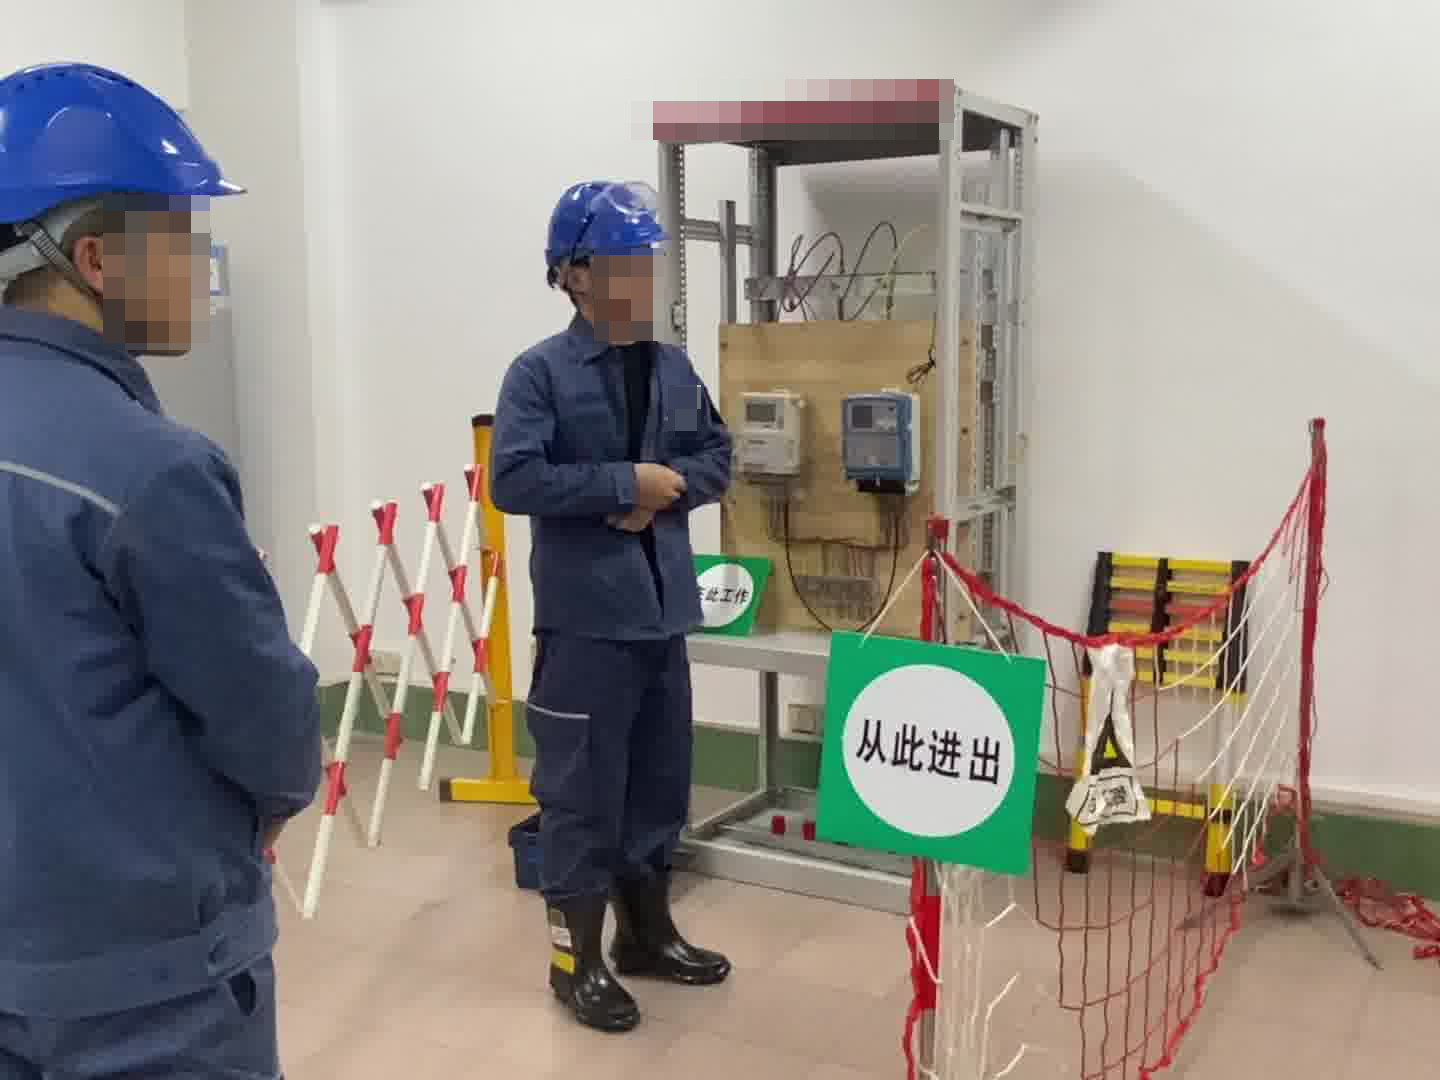downsuit: (522, 639, 700, 895)
halt: (1, 65, 240, 352), (540, 176, 671, 332)
hand: (636, 462, 682, 506)
inear: (28, 212, 160, 333), (548, 260, 617, 320)
intosign: (814, 636, 1049, 874)
person: (1, 57, 345, 1077), (477, 170, 756, 1041)
shoe: (537, 898, 639, 1034), (619, 887, 734, 984)
upsuit: (1, 318, 320, 1033), (486, 323, 733, 641)
worksign: (693, 558, 765, 628)
wrongsuit: (591, 335, 688, 634)
